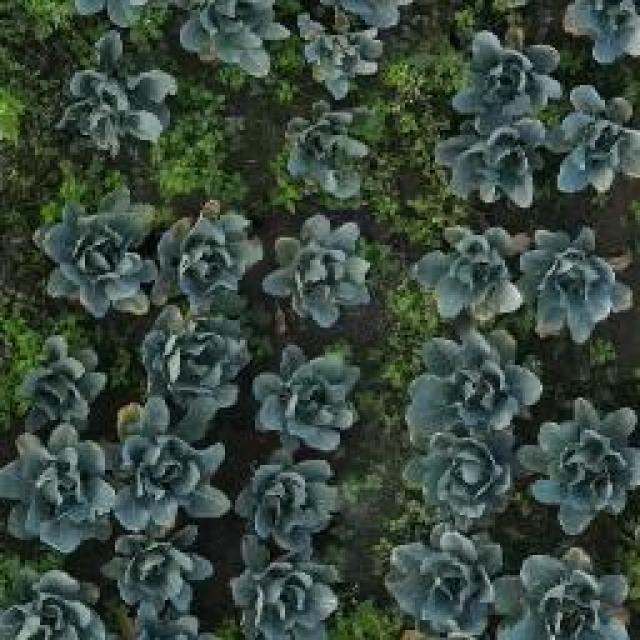cabbage: (106, 411, 232, 527), (1, 427, 115, 555), (521, 412, 640, 530), (35, 196, 147, 317), (415, 327, 527, 445), (448, 20, 560, 138), (524, 228, 635, 346), (62, 47, 176, 161), (132, 292, 242, 410), (500, 545, 629, 640), (381, 532, 492, 638), (268, 219, 371, 328), (405, 426, 511, 526), (234, 542, 340, 640), (420, 222, 520, 324), (254, 345, 353, 445), (158, 204, 264, 297), (431, 120, 539, 211), (7, 332, 112, 425), (556, 82, 640, 197), (106, 524, 216, 608), (283, 106, 368, 208), (238, 447, 338, 532), (185, 0, 292, 75), (0, 570, 105, 640), (294, 20, 382, 89), (565, 0, 640, 62)
